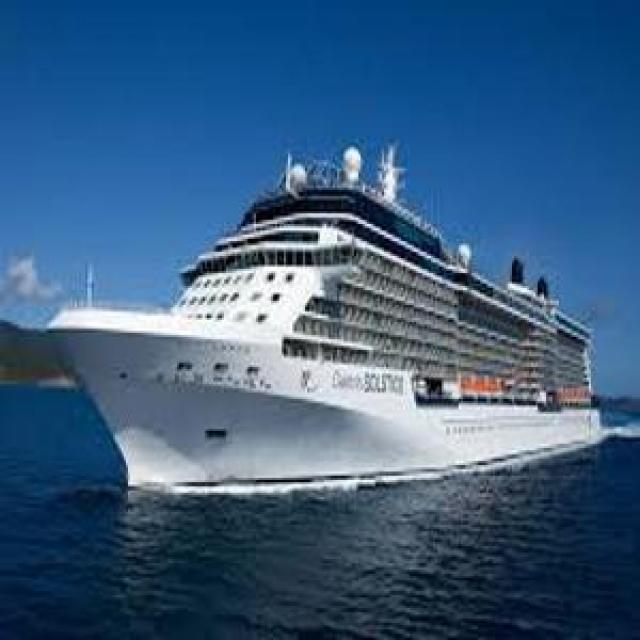passenger ship: (40, 149, 610, 496)
